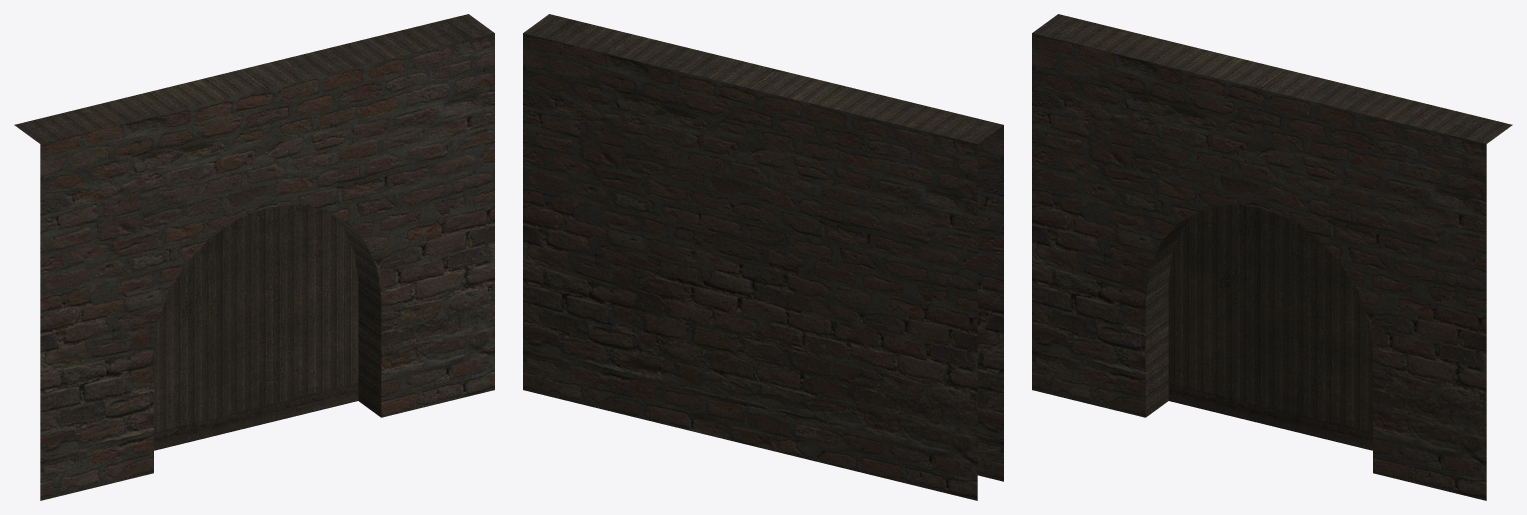
Rendered from wall_hr_15.dae.
3 renders of one model, left to right at view 1: azimuth 30°, elevation 25°; view 2: azimuth 150°, elevation 25°; view 3: azimuth 330°, elevation 25°, orthographic.
Parts seen in each view (by area): view 1: wall_hr_15; view 2: wall_hr_15; view 3: wall_hr_15.
Boxes of the visible parts, <box> form: wall_hr_15: <box>14,14,494,500</box>; wall_hr_15: <box>523,14,1003,500</box>; wall_hr_15: <box>1032,14,1512,500</box>.
Size of the model in its own units: 4 by 0.4 by 3.
2 materials, 2 textured.
